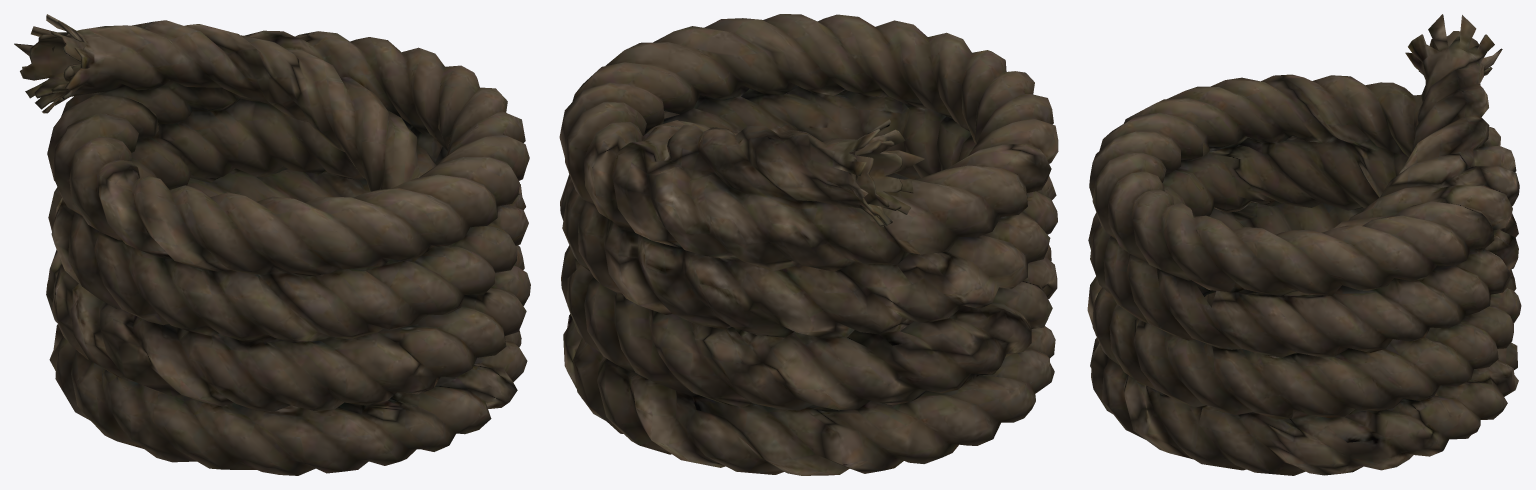
File: kit_rope_coil_hero.glb
3 renders of one model, left to right at view 1: azimuth 30°, elevation 25°; view 2: azimuth 150°, elevation 25°; view 3: azimuth 270°, elevation 25°, orthographic. The views are drawn at different scales.
Visible parts, largest first — view 1: kit_rope_coil_hero; view 2: kit_rope_coil_hero; view 3: kit_rope_coil_hero.
Boxes of the visible parts, <box> form: kit_rope_coil_hero: <box>14,14,530,475</box>; kit_rope_coil_hero: <box>559,14,1058,475</box>; kit_rope_coil_hero: <box>1087,14,1521,475</box>.
Bounding box in the file's own units: 0.9 × 0.7239 × 0.9.
Materials: 1 (1 with a texture image).
